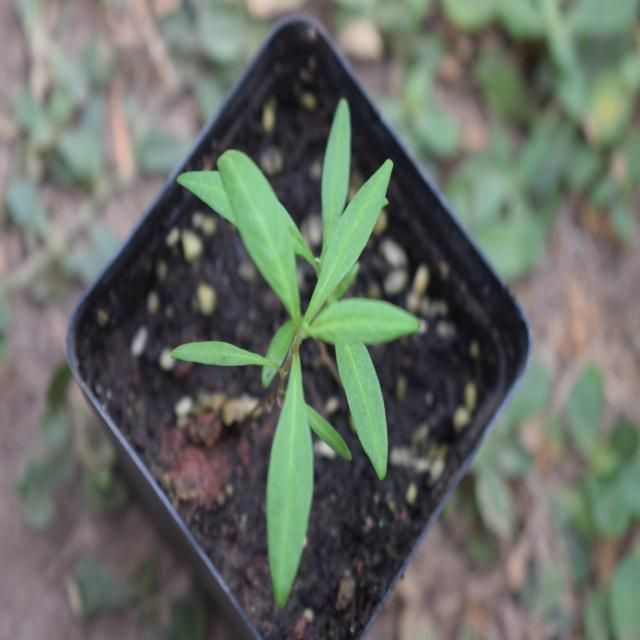white_smart_weed: (164, 75, 428, 609)
